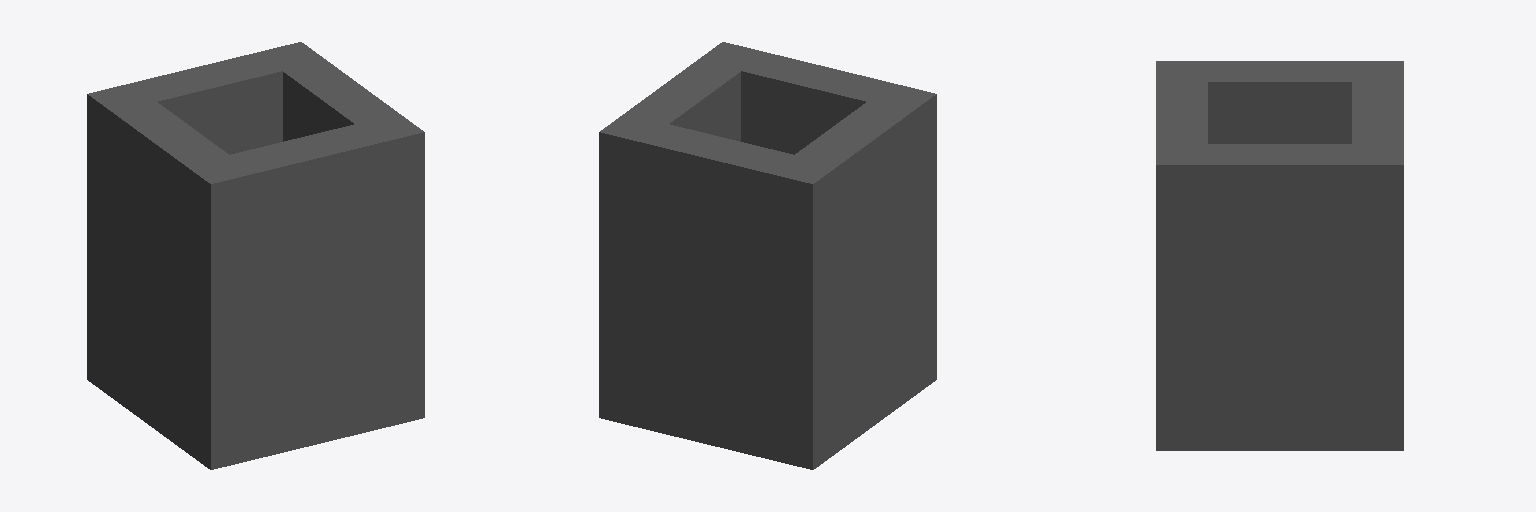
The model's file is ConnectorBottom.obj.
3 renders of one model, left to right at view 1: azimuth 30°, elevation 25°; view 2: azimuth 150°, elevation 25°; view 3: azimuth 270°, elevation 25°, orthographic.
Visible parts, largest first — view 1: FluidConduit_Cube.022; view 2: FluidConduit_Cube.022; view 3: FluidConduit_Cube.022.
Part boxes in pixels (left/top/right/bottom): FluidConduit_Cube.022: left=87, top=42, right=424, bottom=469; FluidConduit_Cube.022: left=599, top=42, right=936, bottom=469; FluidConduit_Cube.022: left=1156, top=61, right=1403, bottom=450.
Bounding box in the file's own units: 0.3625 × 0.4625 × 0.3625.